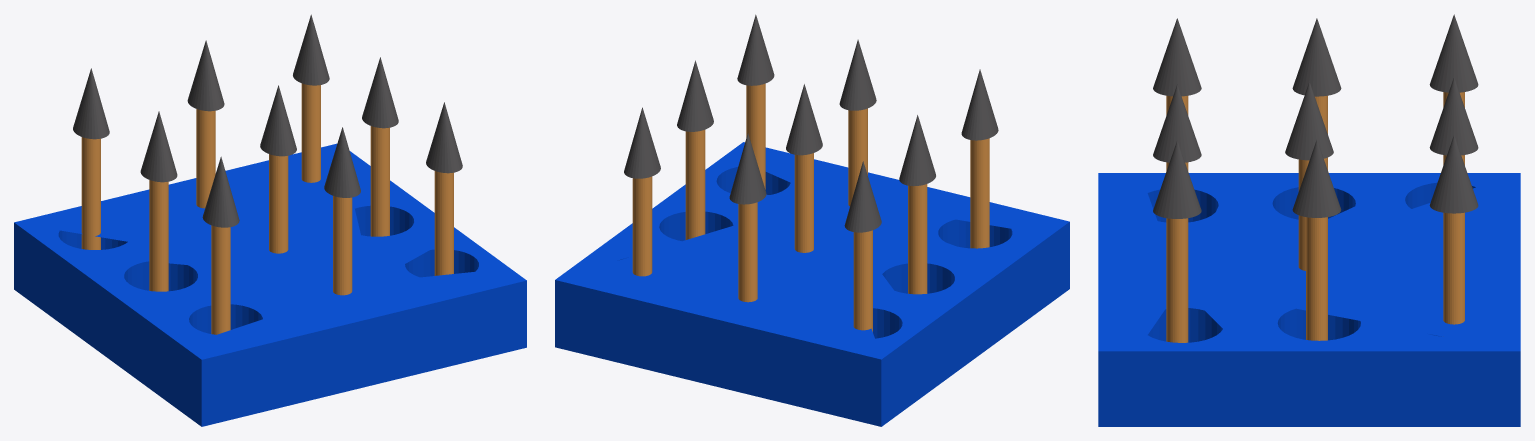
Rendered from hammer not 2.fbx.
The picture shows the model from 3 angles, left to right: view 1: azimuth 30°, elevation 25°; view 2: azimuth 150°, elevation 25°; view 3: azimuth 270°, elevation 25°; orthographic projection. The views are drawn at different scales.
Visible parts, largest first — view 1: Cube, Cone.008, Cone.002, Cone.001, Cone.003, Cone.005, Cone, Cone.006, Cone.004, Cone.007; view 2: Cube, Cone.001, Cone.002, Cone.003, Cone.006, Cone.008, Cone, Cone.007, Cone.005, Cone.004; view 3: Cube, Cone.005, Cone.001, Cone.006, Cone, Cone.002, Cone.003, Cone.008, Cone.007, Cone.004.
Part boxes in pixels (box(x1,y1,x2,y2)): Cube: box(14, 143, 526, 426); Cone.008: box(73, 68, 109, 249); Cone.002: box(140, 111, 177, 291); Cone.001: box(362, 57, 398, 236); Cone.003: box(202, 156, 239, 334); Cone.005: box(426, 102, 462, 275); Cone: box(260, 85, 296, 253); Cone.006: box(293, 14, 329, 182); Cone.004: box(324, 127, 360, 295); Cone.007: box(187, 40, 224, 208); Cube: box(555, 142, 1069, 426); Cone.001: box(677, 60, 713, 239); Cone.002: box(899, 115, 935, 294); Cone.003: box(961, 69, 998, 248); Cone.006: box(624, 107, 660, 276); Cone.008: box(844, 161, 881, 331); Cone: box(786, 84, 822, 252); Cone.007: box(729, 133, 766, 302); Cone.005: box(737, 14, 774, 189); Cone.004: box(839, 39, 876, 206); Cube: box(1098, 173, 1520, 426); Cone.005: box(1153, 140, 1201, 342); Cone.001: box(1292, 140, 1341, 340); Cone.006: box(1429, 135, 1478, 324); Cone: box(1285, 81, 1333, 270); Cone.002: box(1292, 18, 1341, 170); Cone.003: box(1153, 18, 1201, 115); Cone.008: box(1429, 14, 1478, 107); Cone.007: box(1429, 77, 1478, 165); Cone.004: box(1153, 84, 1201, 171).
Size of the model in its own units: 200 by 141 by 200.
